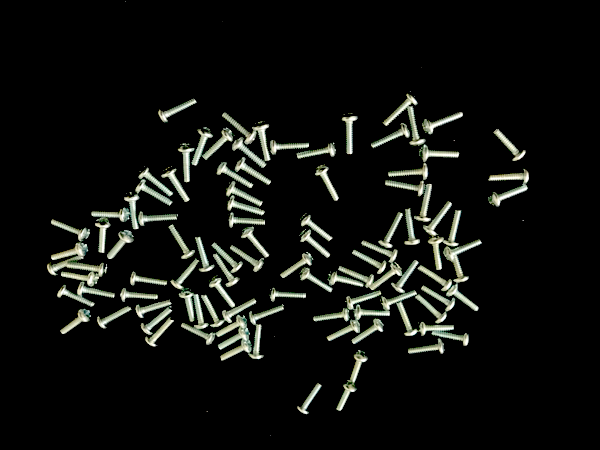shortscrew: (381, 90, 419, 127), (489, 127, 528, 163), (153, 95, 198, 124), (221, 111, 258, 146), (231, 136, 267, 170), (137, 165, 174, 198), (422, 202, 453, 238), (370, 123, 411, 150), (235, 157, 273, 186), (216, 161, 254, 190), (49, 217, 91, 243), (202, 128, 235, 161), (414, 293, 448, 325), (390, 258, 420, 294), (487, 184, 530, 209), (421, 111, 464, 136), (161, 166, 190, 203), (241, 226, 272, 260), (300, 211, 334, 242), (134, 180, 173, 207), (139, 307, 174, 337), (417, 264, 453, 293), (56, 284, 96, 310), (168, 223, 196, 260), (225, 181, 263, 208), (298, 229, 332, 259), (278, 251, 314, 279), (443, 237, 483, 262), (144, 316, 175, 348), (170, 258, 200, 291), (314, 164, 340, 202), (420, 286, 458, 312), (447, 285, 482, 313), (298, 267, 334, 294), (350, 318, 386, 345), (351, 249, 388, 275), (58, 308, 91, 337), (361, 240, 399, 265), (192, 127, 215, 168), (96, 305, 133, 330), (221, 299, 258, 324), (208, 277, 236, 310), (252, 121, 274, 162), (106, 230, 135, 261), (180, 323, 217, 347), (337, 265, 374, 289), (379, 212, 403, 249), (296, 383, 322, 417), (324, 319, 362, 342), (447, 248, 471, 284), (47, 254, 84, 277), (200, 295, 225, 329), (217, 325, 251, 350), (406, 106, 426, 148), (413, 183, 434, 223), (372, 263, 403, 290), (194, 236, 216, 274), (379, 289, 417, 311), (249, 304, 285, 327), (385, 178, 426, 198), (176, 143, 196, 184), (225, 196, 264, 217), (340, 112, 359, 155), (66, 259, 108, 278), (215, 314, 248, 338), (219, 339, 253, 362), (296, 142, 337, 161), (49, 242, 90, 261), (138, 209, 179, 228), (135, 298, 172, 319), (77, 282, 117, 301), (388, 164, 430, 182), (346, 290, 382, 311), (487, 168, 531, 185), (418, 145, 462, 162), (61, 269, 100, 288), (122, 191, 141, 230), (432, 330, 471, 349), (227, 212, 266, 231), (402, 209, 421, 248), (346, 350, 369, 382), (397, 302, 418, 337), (269, 285, 307, 304), (444, 210, 463, 248), (270, 139, 309, 157), (312, 306, 351, 324), (90, 207, 131, 224), (121, 286, 159, 304), (130, 269, 168, 287), (409, 338, 447, 356), (336, 381, 358, 412), (178, 289, 197, 324), (426, 236, 445, 271), (249, 324, 266, 362), (328, 271, 366, 288), (94, 219, 112, 254), (417, 321, 455, 337), (193, 294, 209, 331), (354, 305, 391, 321)
